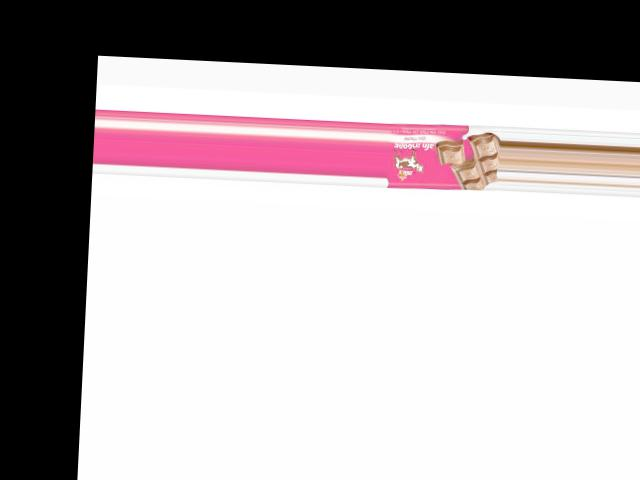chocolate: (385, 120, 500, 191)
